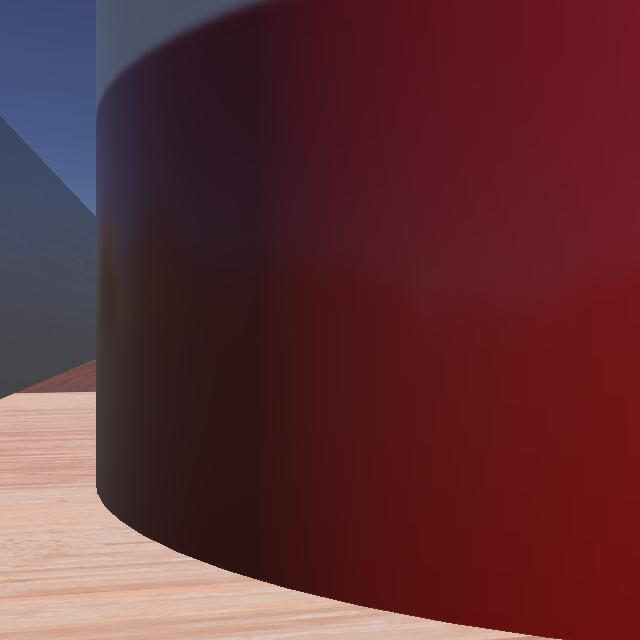paint-bucket: (1, 1, 640, 640)
